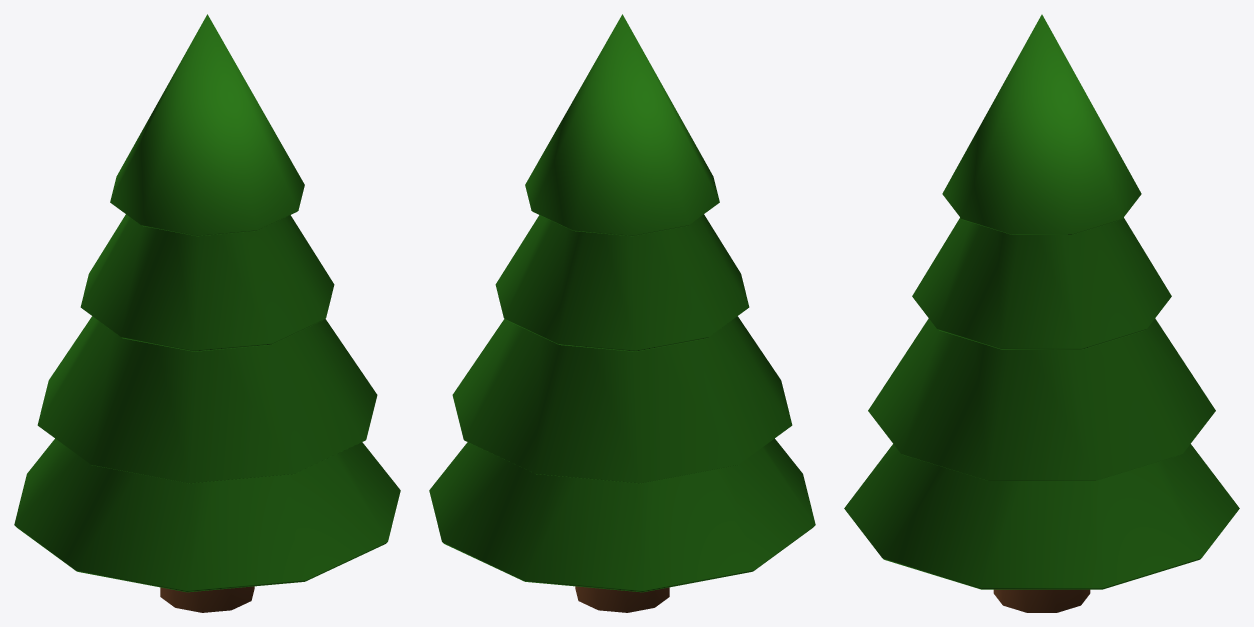
The model's file is ForestTreePineTallBlender.glb.
3 views of the same model, side by side, from view 1: azimuth 30°, elevation 25°; view 2: azimuth 150°, elevation 25°; view 3: azimuth 270°, elevation 25° (orthographic).
Parts seen in each view (by area): view 1: ForestTreePineTall; view 2: ForestTreePineTall; view 3: ForestTreePineTall.
Boxes of the visible parts, <box> form: ForestTreePineTall: <box>14,14,400,612</box>; ForestTreePineTall: <box>429,14,815,612</box>; ForestTreePineTall: <box>844,14,1239,612</box>.
Size of the model in its own units: 1.77 by 3 by 1.86.
Materials: 1 (1 with a texture image).
